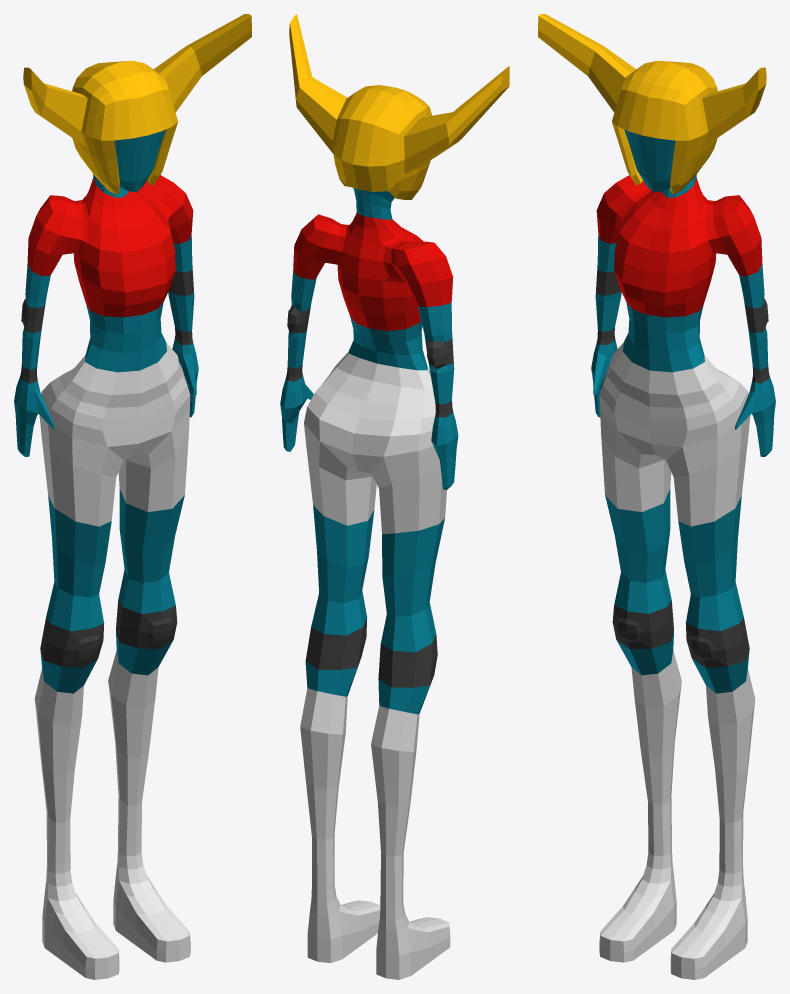
Rendered from MocadeChifre.fbx.
3 views of the same model, side by side, from view 1: azimuth 30°, elevation 25°; view 2: azimuth 150°, elevation 25°; view 3: azimuth 330°, elevation 25° (orthographic). The views are drawn at different scales.
Parts seen in each view (by area): view 1: Corpo; view 2: Corpo; view 3: Corpo.
Boxes of the visible parts, left/top/right/bottom form: Corpo: left=14, top=14, right=251, bottom=979; Corpo: left=280, top=14, right=509, bottom=979; Corpo: left=538, top=14, right=775, bottom=979.
Bounding box in the file's own units: 46.48 × 186 × 24.03.
